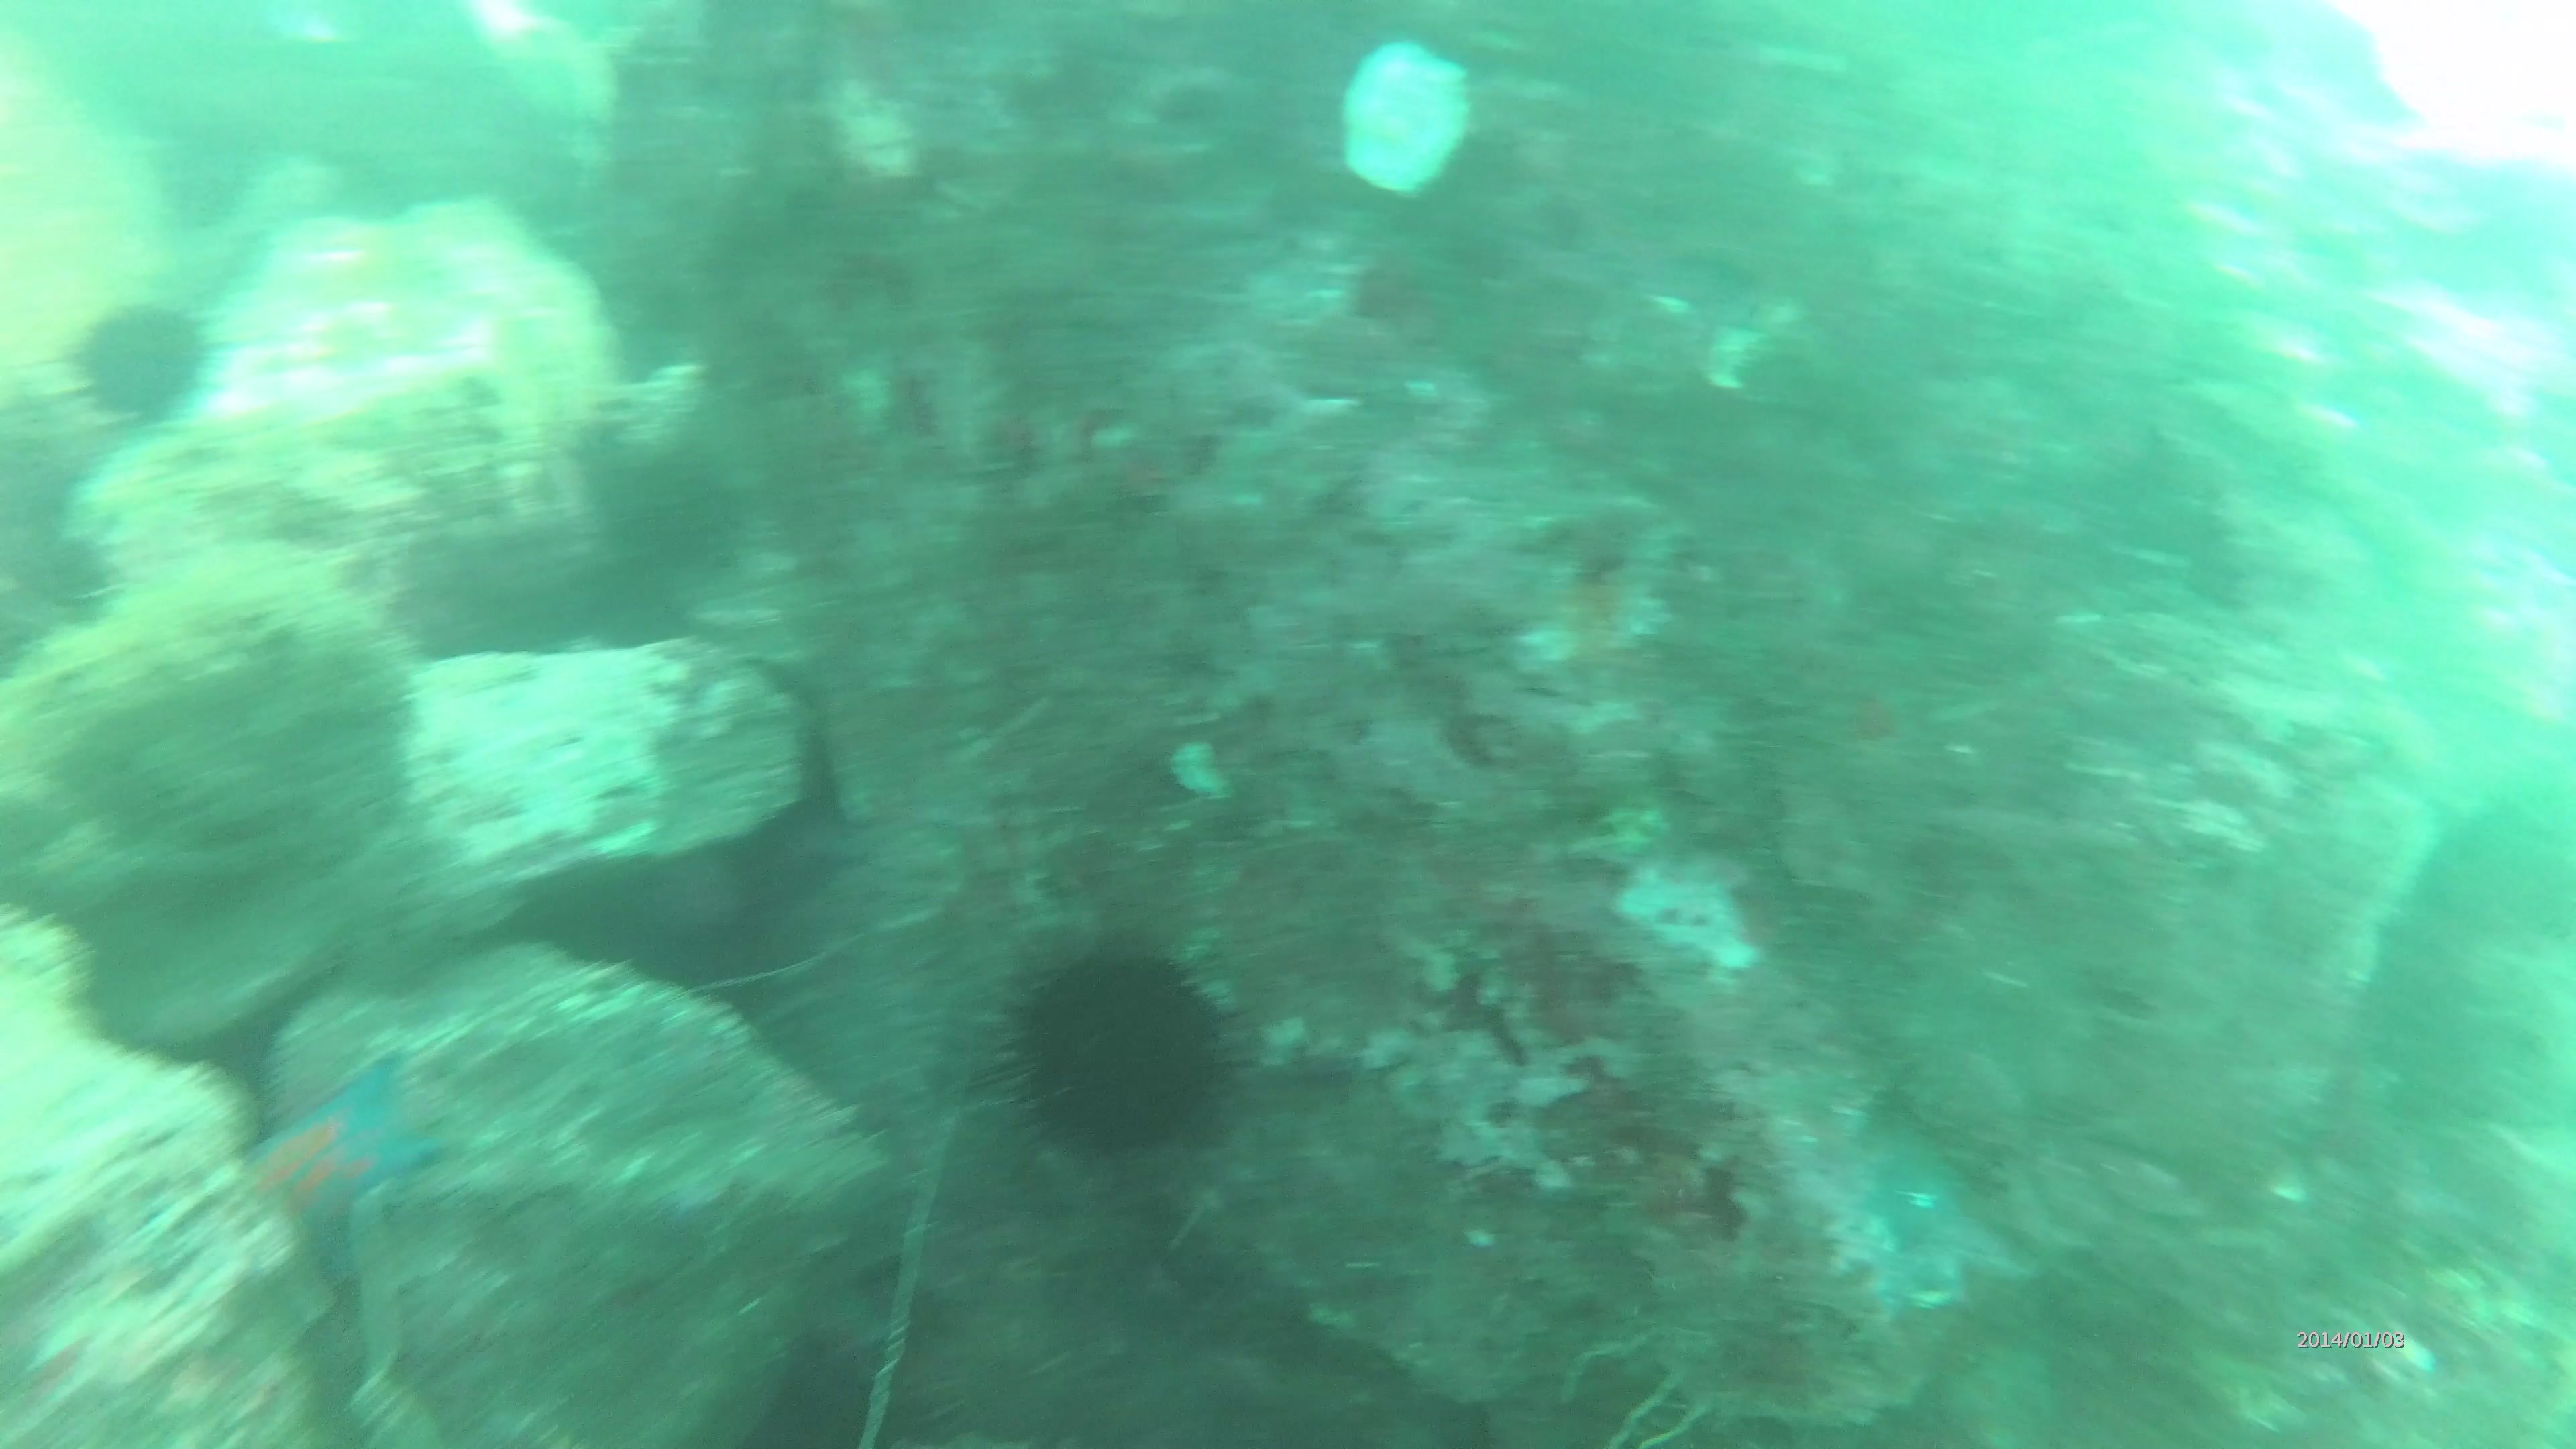echinus: (1005, 947, 1238, 1155), (71, 297, 212, 433)
starfish: (251, 1063, 451, 1290)
